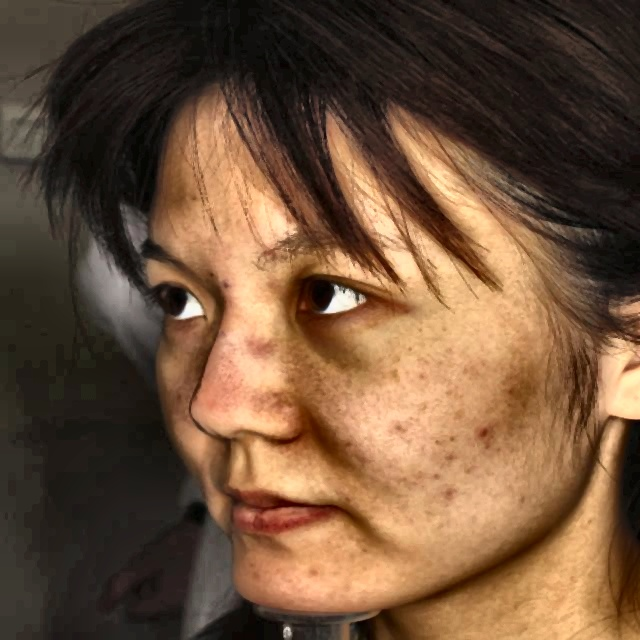comedone: (468, 421, 502, 451)
